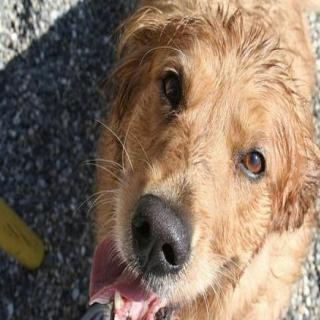dog: (66, 7, 320, 320)
nose: (124, 192, 190, 285)
